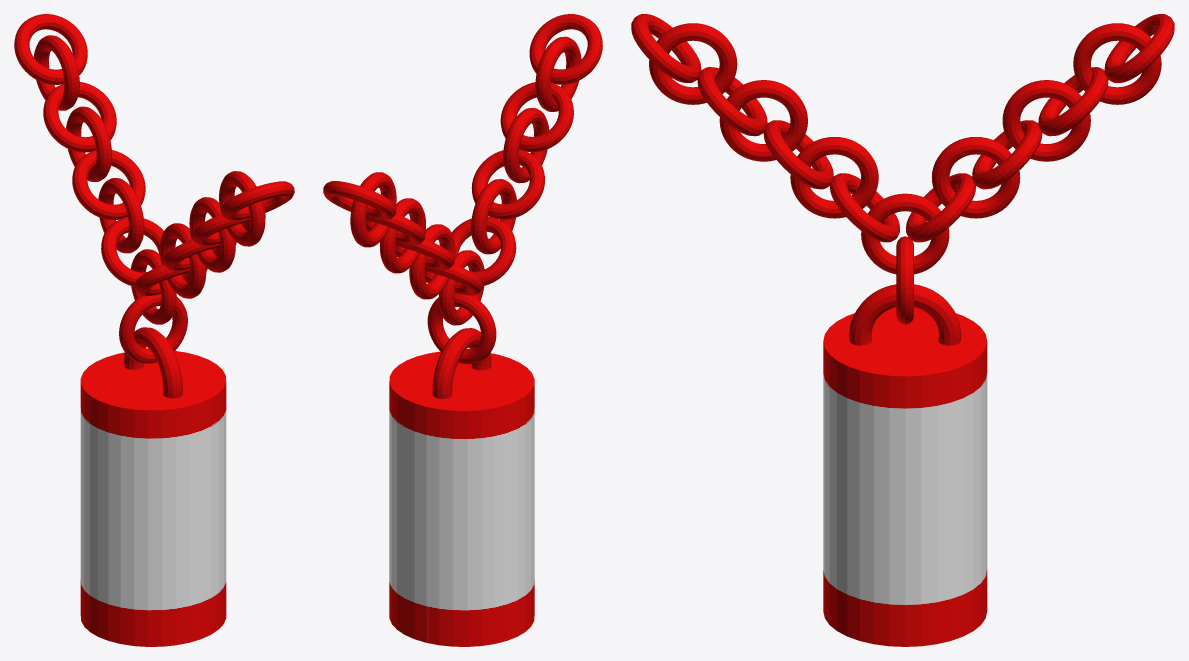
Rendered from PunchingBag_necklace.fbx.
The picture shows the model from 3 angles, left to right: view 1: azimuth 30°, elevation 25°; view 2: azimuth 150°, elevation 25°; view 3: azimuth 270°, elevation 25°; orthographic projection. The views are drawn at different scales.
Parts seen in each view (by area): view 1: Cylinder, Torus.007, Torus.005, Torus.006, TorusCC, Torus.008, Torus.009, Torus.010, Torus.014, Torus.002, Torus.013, Torus.003 (+5 smaller); view 2: Cylinder, Torus.013, Torus.011, Torus.012, TorusCC, Torus.003, Torus.001, Torus.014, Torus.004, Torus.010, Torus.007, Torus.008 (+5 smaller); view 3: Cylinder, Torus.008, Torus.009, Torus.010, Torus.003, Torus.001, Torus.014, Torus.C, Torus.013, Torus.007, Torus.006, Torus.012 (+5 smaller).
Part boxes in pixels (left/top/right/bottom): Cylinder: left=80, top=327, right=226, bottom=646; Torus.007: left=14, top=14, right=87, bottom=84; Torus.005: left=72, top=150, right=145, bottom=219; Torus.006: left=43, top=82, right=116, bottom=152; TorusCC: left=119, top=294, right=187, bottom=363; Torus.008: left=98, top=178, right=144, bottom=253; Torus.009: left=66, top=106, right=112, bottom=181; Torus.010: left=34, top=35, right=79, bottom=110; Torus.014: left=219, top=171, right=265, bottom=246; Torus.002: left=101, top=217, right=163, bottom=286; Torus.013: left=221, top=181, right=294, bottom=220; Torus.003: left=160, top=223, right=206, bottom=298; Cylinder: left=389, top=328, right=534, bottom=646; Torus.013: left=529, top=14, right=602, bottom=84; Torus.011: left=471, top=149, right=544, bottom=219; Torus.012: left=500, top=82, right=573, bottom=152; TorusCC: left=427, top=293, right=496, bottom=364; Torus.003: left=471, top=179, right=516, bottom=254; Torus.001: left=503, top=108, right=549, bottom=183; Torus.014: left=535, top=36, right=581, bottom=111; Torus.004: left=451, top=216, right=516, bottom=285; Torus.010: left=350, top=172, right=396, bottom=247; Torus.007: left=323, top=181, right=396, bottom=219; Torus.008: left=409, top=224, right=455, bottom=299; Cylinder: left=823, top=284, right=987, bottom=646; Torus.008: left=931, top=137, right=1020, bottom=218; Torus.009: left=1002, top=80, right=1090, bottom=161; Torus.010: left=1073, top=23, right=1161, bottom=104; Torus.003: left=790, top=137, right=878, bottom=218; Torus.001: left=719, top=80, right=807, bottom=161; Torus.014: left=649, top=23, right=737, bottom=104; Torus.C: left=861, top=193, right=949, bottom=274; Torus.013: left=631, top=14, right=701, bottom=82; Torus.007: left=1104, top=14, right=1174, bottom=82; Torus.006: left=1038, top=67, right=1108, bottom=136; Torus.012: left=697, top=67, right=767, bottom=136.
Bounding box in the file's own units: 54.64 × 213 × 177.
